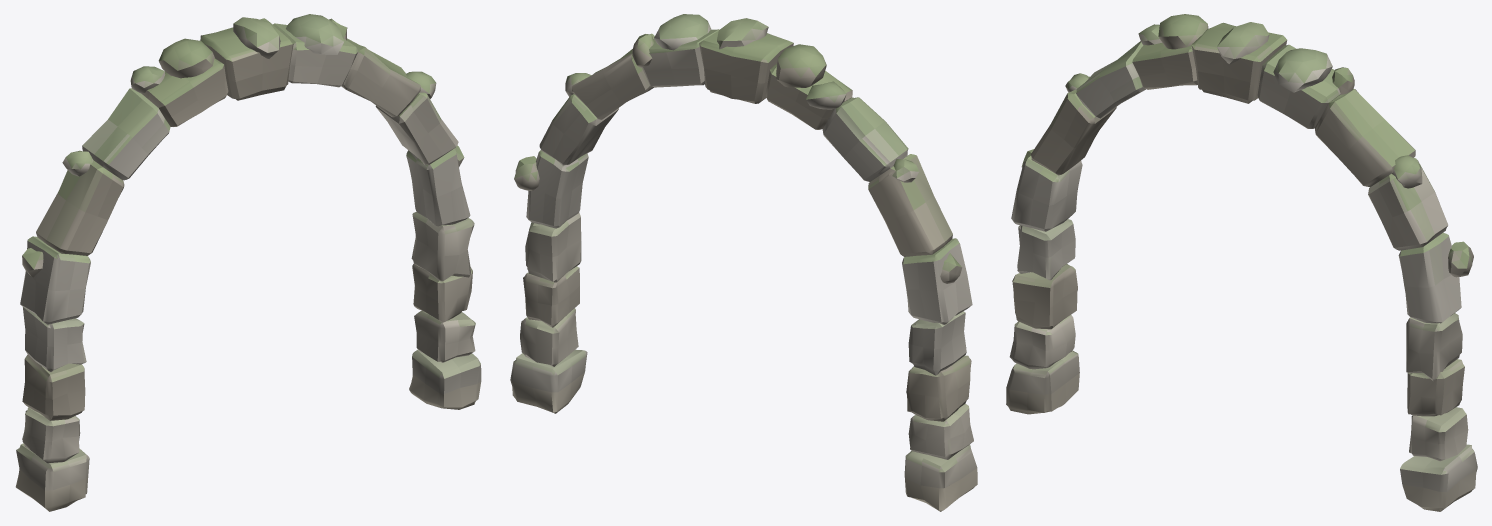
Rendered from cavern_rib.glb.
The picture shows the model from 3 angles, left to right: view 1: azimuth 30°, elevation 25°; view 2: azimuth 150°, elevation 25°; view 3: azimuth 330°, elevation 25°; orthographic projection.
Visible parts, largest first — view 1: cavern_rib; view 2: cavern_rib; view 3: cavern_rib.
Boxes of the visible parts, <box> form: cavern_rib: <box>15,14,481,511</box>; cavern_rib: <box>510,14,977,511</box>; cavern_rib: <box>1006,14,1477,511</box>.
Bounding box in the file's own units: 78.97 × 72.82 × 11.96.
